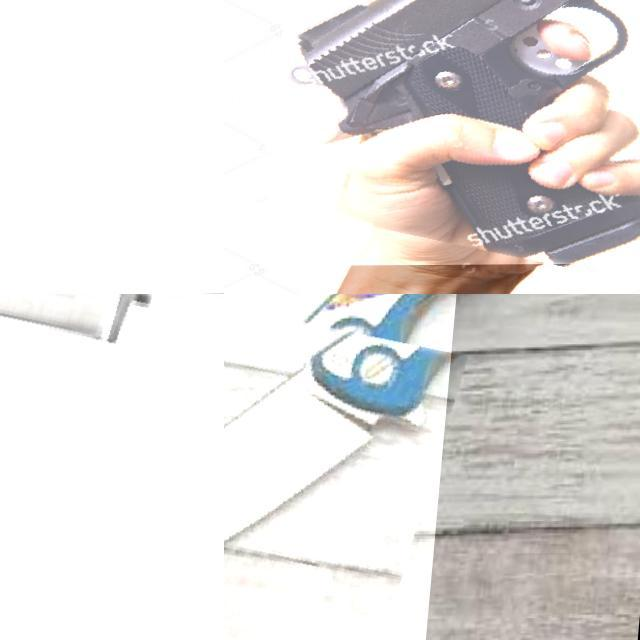-: (224, 294, 461, 640), (0, 294, 224, 466)
gun-knife-thesis - v11 Yolov5 augmented: (270, 0, 640, 266), (0, 0, 224, 294)
